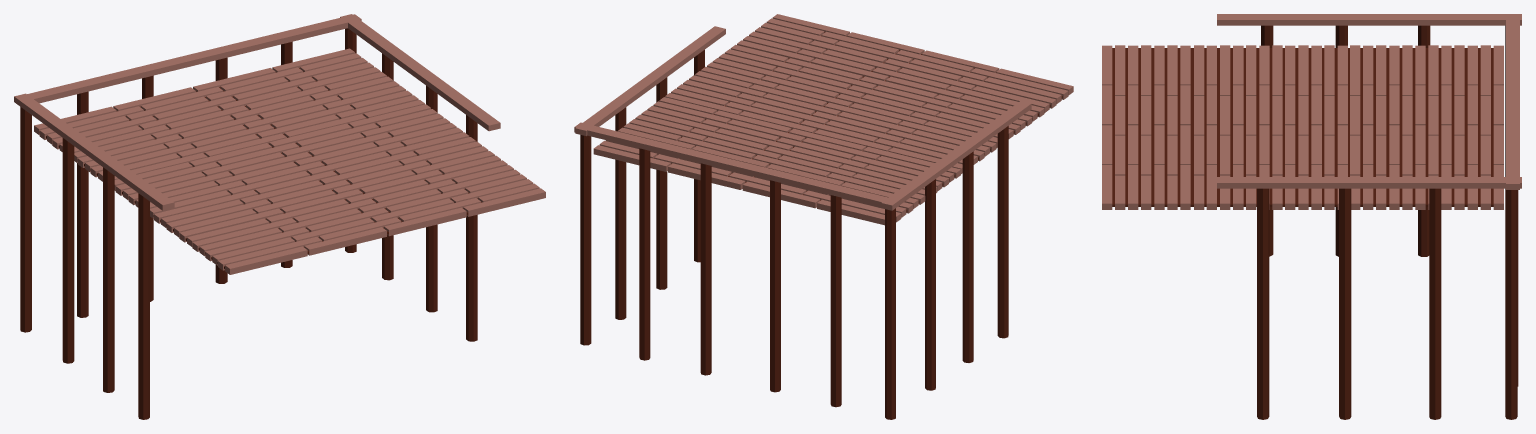
Rendered from Big_pier_ver3.fbx.
3 views of the same model, side by side, from view 1: azimuth 30°, elevation 25°; view 2: azimuth 150°, elevation 25°; view 3: azimuth 270°, elevation 25° (orthographic). The views are drawn at different scales.
Visible parts, largest first — view 1: Cube.003, Cube.001, Cylinder.006, Cube.005, Cylinder.007, Cylinder.004; view 2: Cube.003, Cube.001, Cylinder.004, Cylinder.006, Cube.005, Cylinder.007; view 3: Cube.003, Cube, Cube.001, Cylinder.007, Cube.005, Cylinder.006, Cylinder.004.
Part boxes in pixels (left/top/right/bottom): Cube.003: left=34, top=48, right=500, bottom=242; Cube.001: left=187, top=160, right=545, bottom=274; Cylinder.006: left=20, top=107, right=149, bottom=419; Cube.005: left=14, top=14, right=500, bottom=210; Cylinder.007: left=345, top=28, right=477, bottom=341; Cylinder.004: left=77, top=41, right=292, bottom=317; Cube.003: left=593, top=44, right=1032, bottom=225; Cube.001: left=737, top=14, right=1073, bottom=121; Cylinder.004: left=639, top=148, right=841, bottom=407; Cylinder.006: left=885, top=126, right=1008, bottom=419; Cube.005: left=574, top=26, right=1031, bottom=210; Cylinder.007: left=580, top=50, right=704, bottom=345; Cube.003: left=1194, top=45, right=1503, bottom=209; Cube: left=1112, top=48, right=1493, bottom=206; Cube.001: left=1102, top=45, right=1190, bottom=209; Cylinder.007: left=1257, top=188, right=1517, bottom=419; Cube.005: left=1217, top=14, right=1521, bottom=189; Cylinder.006: left=1261, top=25, right=1505, bottom=256; Cylinder.004: left=1517, top=190, right=1518, bottom=386.
Size of the model in its own units: 3919 by 2551 by 4090.
